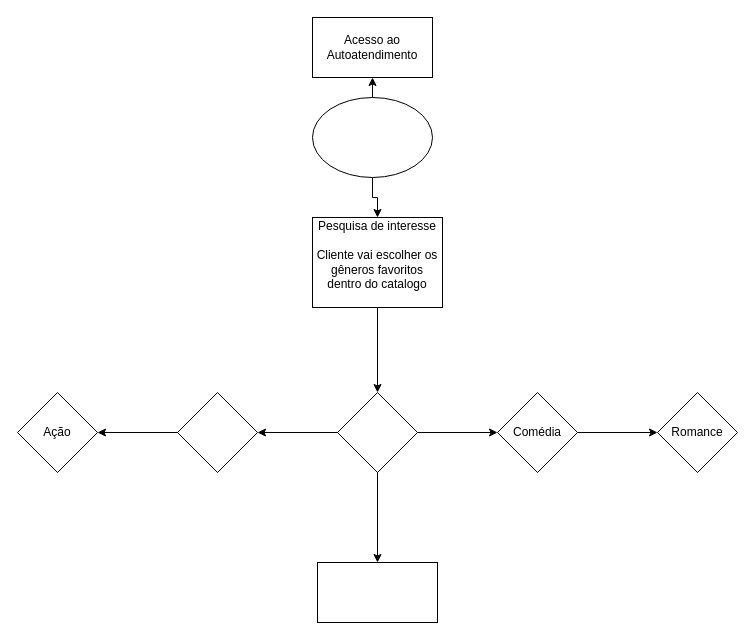
Image size: 755x640. Some labels were removed from this diagram. The shapes that lost their labels are listed below. From the top down, each one's box as (x1, y1, x2, y2) in pixels, then its label:
(312, 96, 432, 178): Cadastro de usuário (Nome/CPF/Telefone, etc)
(176, 392, 258, 472): Suspense
(336, 392, 418, 472): Terror
